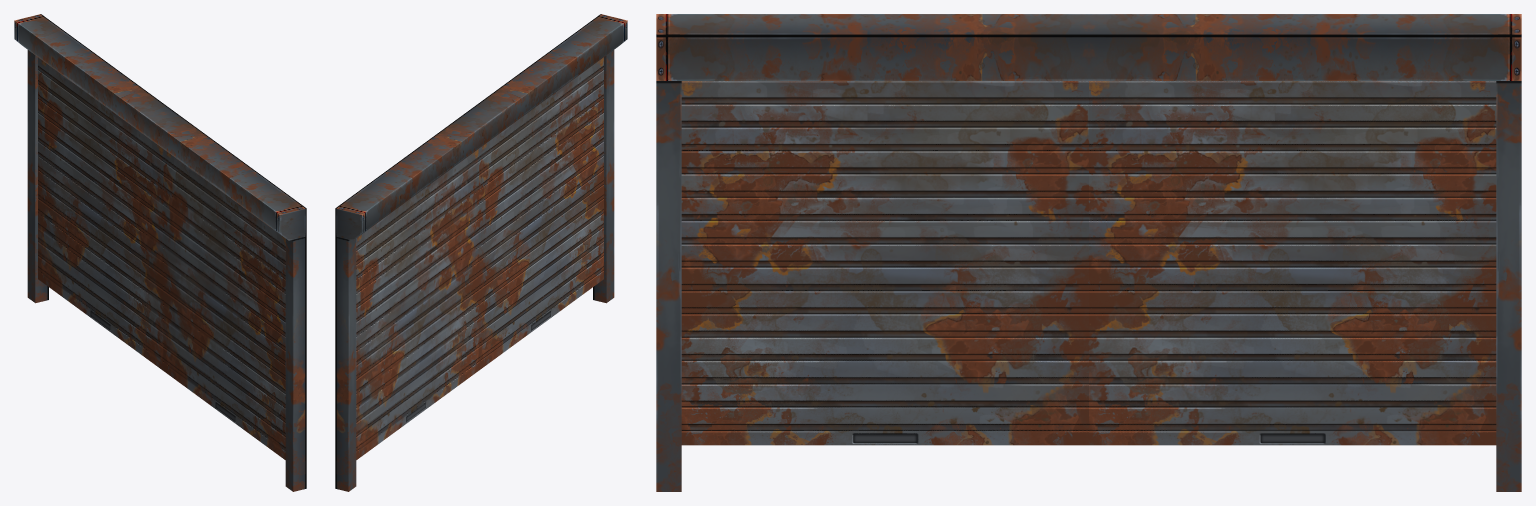
The model's file is rollerShutter02_6m.fbx.
The picture shows the model from 3 angles, left to right: view 1: azimuth 30°, elevation 25°; view 2: azimuth 150°, elevation 25°; view 3: azimuth 270°, elevation 25°; orthographic projection. The views are drawn at different scales.
Visible parts, largest first — view 1: rollerShutter02_6m; view 2: rollerShutter02_6m; view 3: rollerShutter02_6m.
Boxes of the visible parts, x1,y1,x2,y2 form: rollerShutter02_6m: (14,14,306,491); rollerShutter02_6m: (335,14,627,491); rollerShutter02_6m: (656,14,1521,491).
Bounding box in the file's own units: 30 × 300 × 515.
